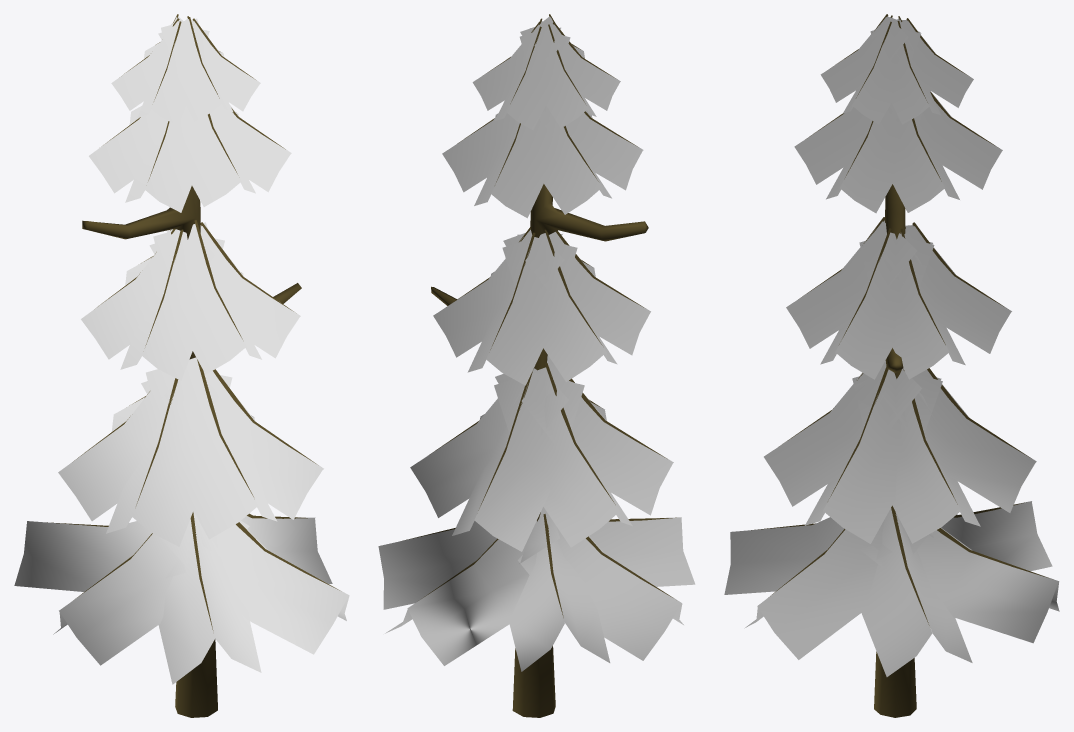
The model's file is pine_Tree6.fbx.
3 views of the same model, side by side, from view 1: azimuth 30°, elevation 25°; view 2: azimuth 150°, elevation 25°; view 3: azimuth 270°, elevation 25° (orthographic).
Parts seen in each view (by area): view 1: Cylinder.002, Cube; view 2: Cylinder.002, Cube; view 3: Cylinder.002, Cube.
Boxes of the visible parts, <box> form: Cylinder.002: <box>14,14,349,684</box>; Cube: <box>82,186,301,717</box>; Cylinder.002: <box>378,14,695,671</box>; Cube: <box>431,184,648,717</box>; Cylinder.002: <box>724,14,1059,676</box>; Cube: <box>874,184,916,717</box>.
Size of the model in its own units: 1206 by 2861 by 1261.
